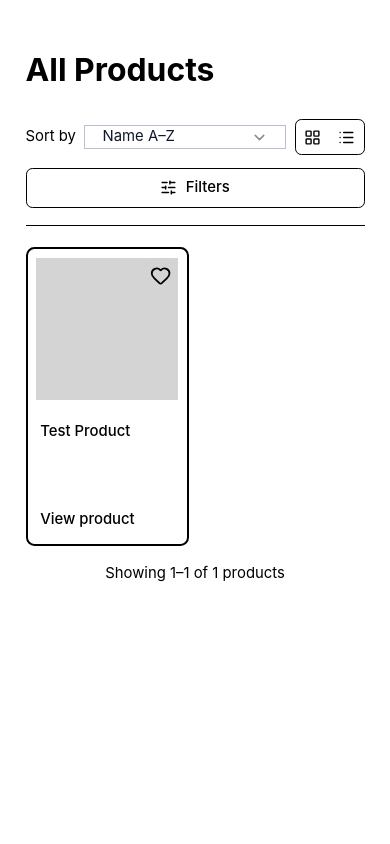
Test case: ProductListPage integration › sidebar visibility toggle › clicking filter button on mobile opens the drawer instead of toggling sidebar
This screenshot has width=390, height=844.
Click the filter toggle button
Click the button labelled "Filters" at (195, 188), box [26,168,364,208]
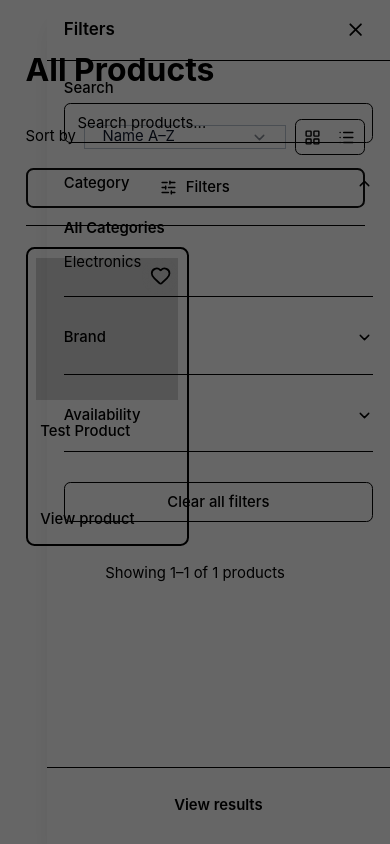
Check: the button "View results" is shown, box [64,784,373,827]
